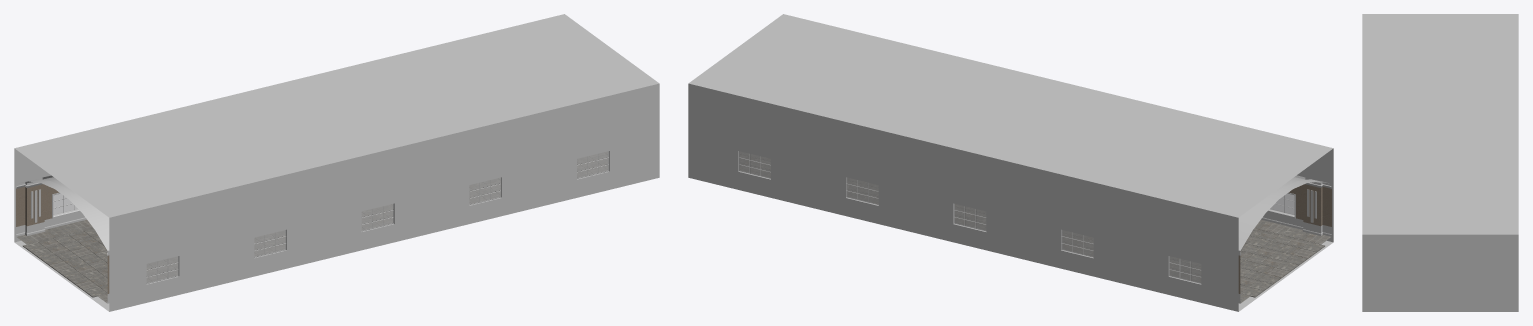
File: gallery02.dae
3 renders of one model, left to right at view 1: azimuth 30°, elevation 25°; view 2: azimuth 150°, elevation 25°; view 3: azimuth 270°, elevation 25°, orthographic. The views are drawn at different scales.
Visible parts, largest first — view 1: group_10, instance_39, instance_37, instance_36, instance_38, instance_40, group_11, group_4, group_5, instance_43, group_1; view 2: group_10, instance_44, instance_42, instance_43, instance_45, instance_41, group_11, group_4, group_5, instance_36, group_0; view 3: group_10, group_11.
Part boxes in pixels (<box>): group_10: <box>14,17,646,217</box>; instance_39: <box>432,113,539,232</box>; instance_37: <box>217,165,324,285</box>; instance_36: <box>109,191,216,311</box>; instance_38: <box>324,139,431,259</box>; instance_40: <box>539,86,646,206</box>; group_11: <box>552,14,659,180</box>; group_4: <box>16,175,109,255</box>; group_5: <box>16,184,44,226</box>; instance_43: <box>14,148,50,242</box>; group_1: <box>17,219,93,244</box>; group_10: <box>701,17,1333,217</box>; instance_44: <box>808,113,915,232</box>; instance_42: <box>1023,165,1130,285</box>; instance_43: <box>1131,191,1238,311</box>; instance_45: <box>916,139,1023,259</box>; instance_41: <box>701,86,808,206</box>; group_11: <box>688,14,795,180</box>; group_4: <box>1238,175,1331,255</box>; group_5: <box>1303,184,1331,226</box>; instance_36: <box>1297,148,1333,242</box>; group_0: <box>1254,219,1330,244</box>; group_10: <box>1362,14,1518,229</box>; group_11: <box>1362,229,1518,311</box>.
Bounding box in the file's own units: 1451 × 430 × 236.
